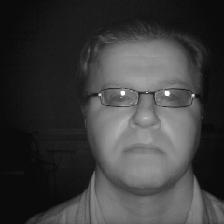normal: (82, 27, 210, 192)
